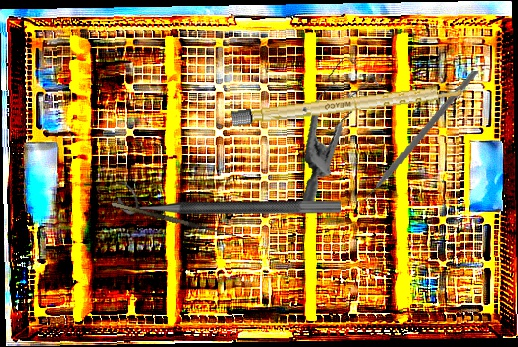Chopper: (346, 54, 479, 219)
Fixation Ring: (118, 181, 341, 215)
Hook Surgical: (111, 194, 239, 240)
Scalpel Handle: (230, 82, 466, 127)
Speculum: (277, 52, 399, 205)
